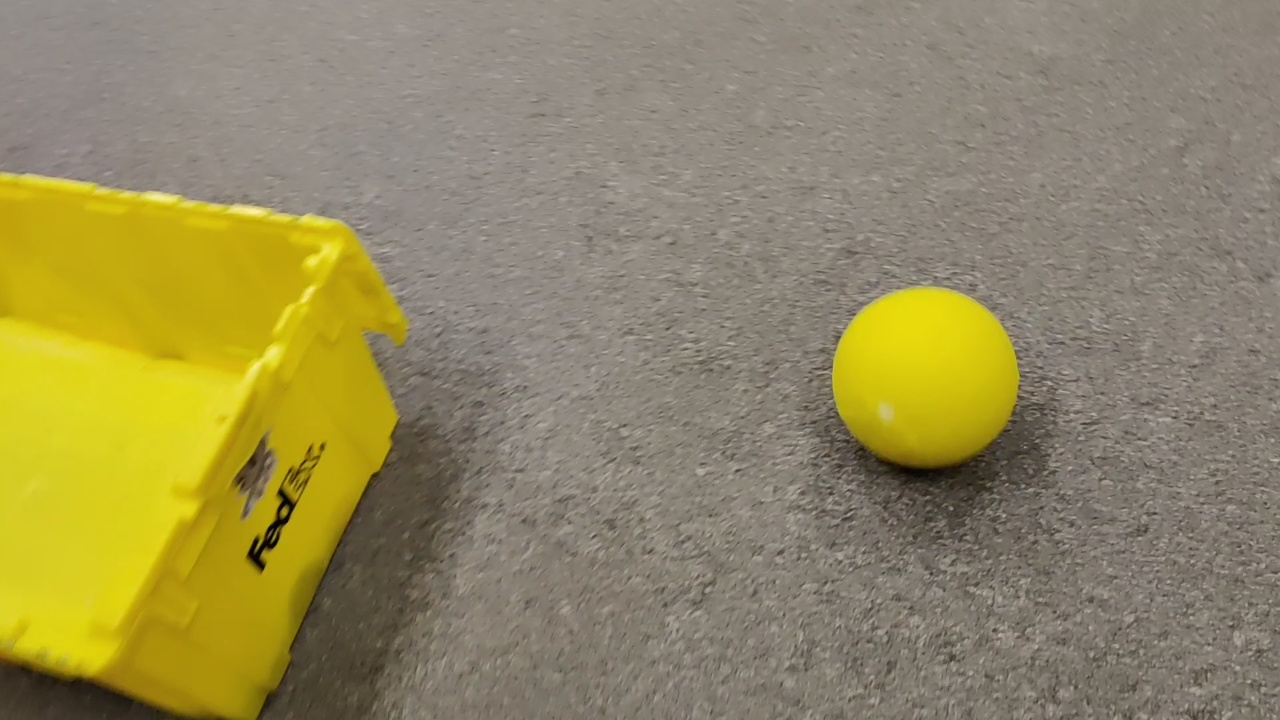Ball: (834, 283, 1023, 469)
